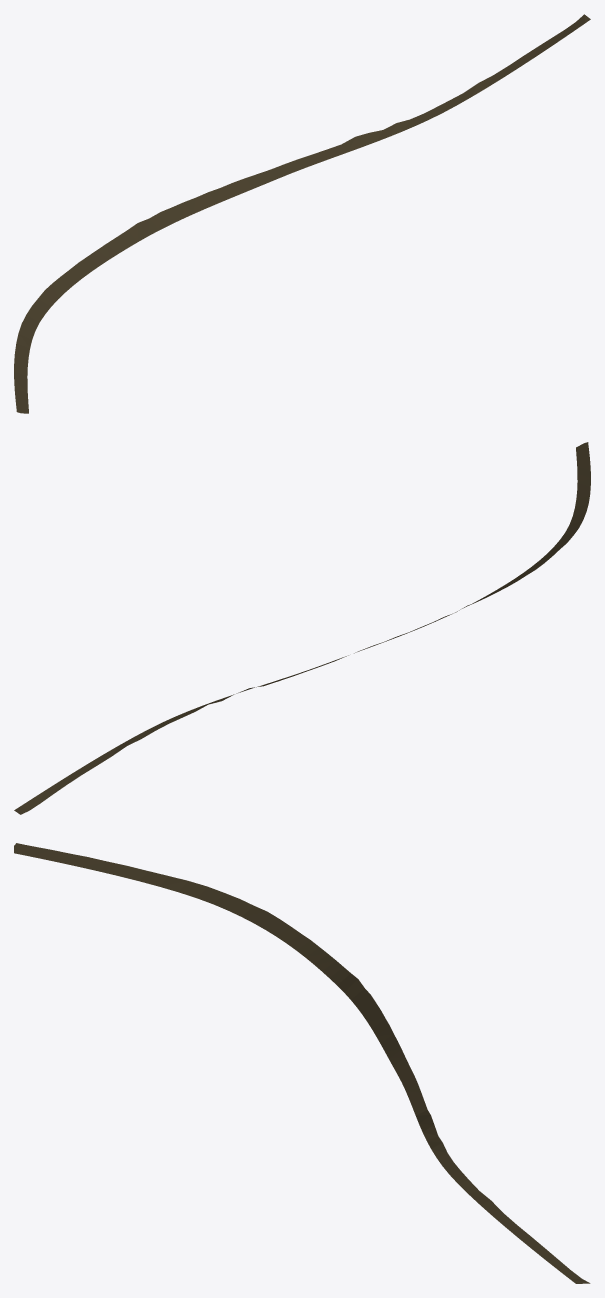
Rendered from 2079_right_gravel_bank.dae.
3 renders of one model, top to bottom at view 1: azimuth 30°, elevation 25°; view 2: azimuth 210°, elevation 25°; view 3: azimuth 270°, elevation 25°, orthographic. The views are drawn at different scales.
Visible parts, largest first — view 1: Node; view 2: Node; view 3: Node.
Part boxes in pixels (<box>): Node: <box>14,14,590,413</box>; Node: <box>14,442,590,814</box>; Node: <box>14,843,590,1283</box>.
Bounding box in the file's own units: 57.05 × 30.59 × 1.21.
